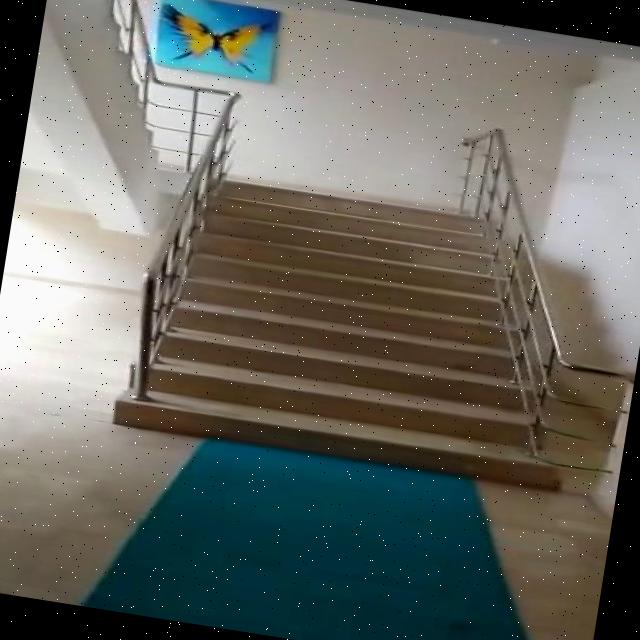stairs: (110, 162, 603, 494)
